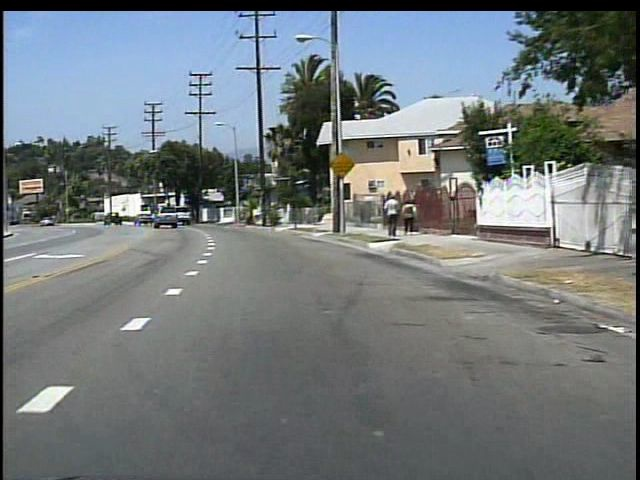person: (381, 190, 400, 238), (398, 198, 417, 235)
